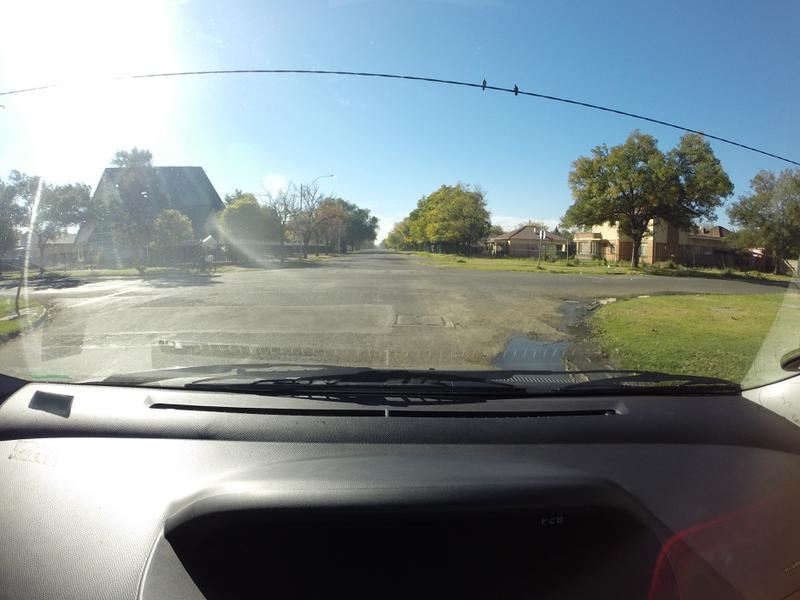pothole: (491, 328, 570, 380)
